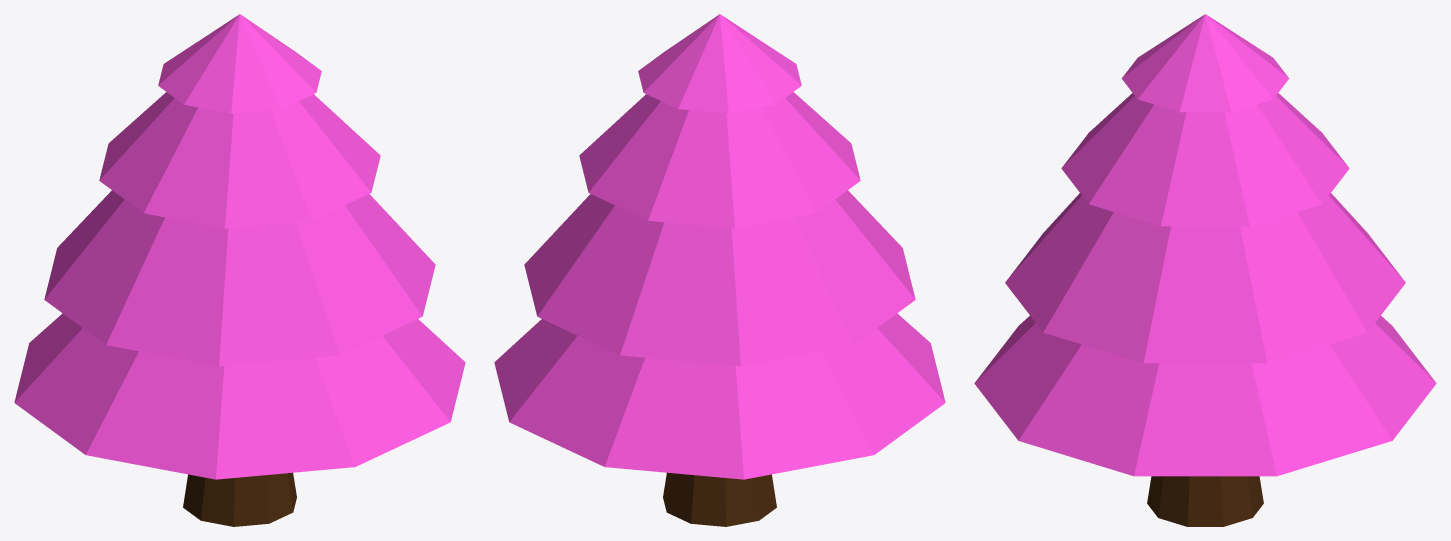
The model's file is Short_Pine_004.fbx.
3 renders of one model, left to right at view 1: azimuth 30°, elevation 25°; view 2: azimuth 150°, elevation 25°; view 3: azimuth 270°, elevation 25°, orthographic.
Visible parts, largest first — view 1: Short Pine.004; view 2: Short Pine.004; view 3: Short Pine.004.
Boxes of the visible parts, x1,y1,x2,y2 form: Short Pine.004: (14,14,465,526); Short Pine.004: (494,14,945,526); Short Pine.004: (974,14,1436,526).
Size of the model in its own units: 286 by 351 by 301.
